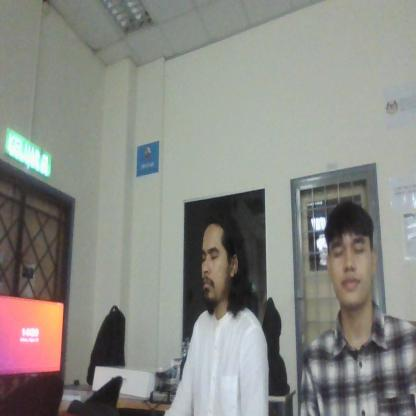Closed-Eyes: (328, 239, 371, 261), (197, 239, 224, 266)
